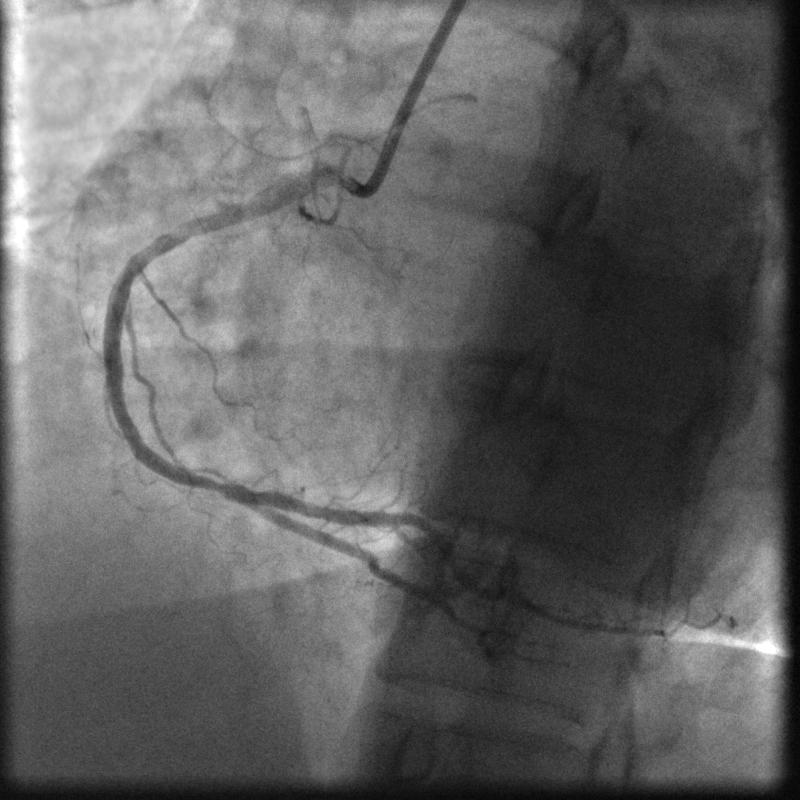Stenosis: (197, 464, 240, 511)
